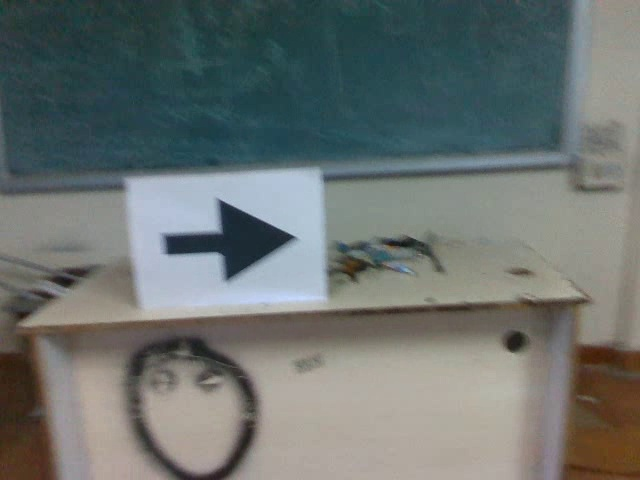Right: (154, 193, 301, 286)
